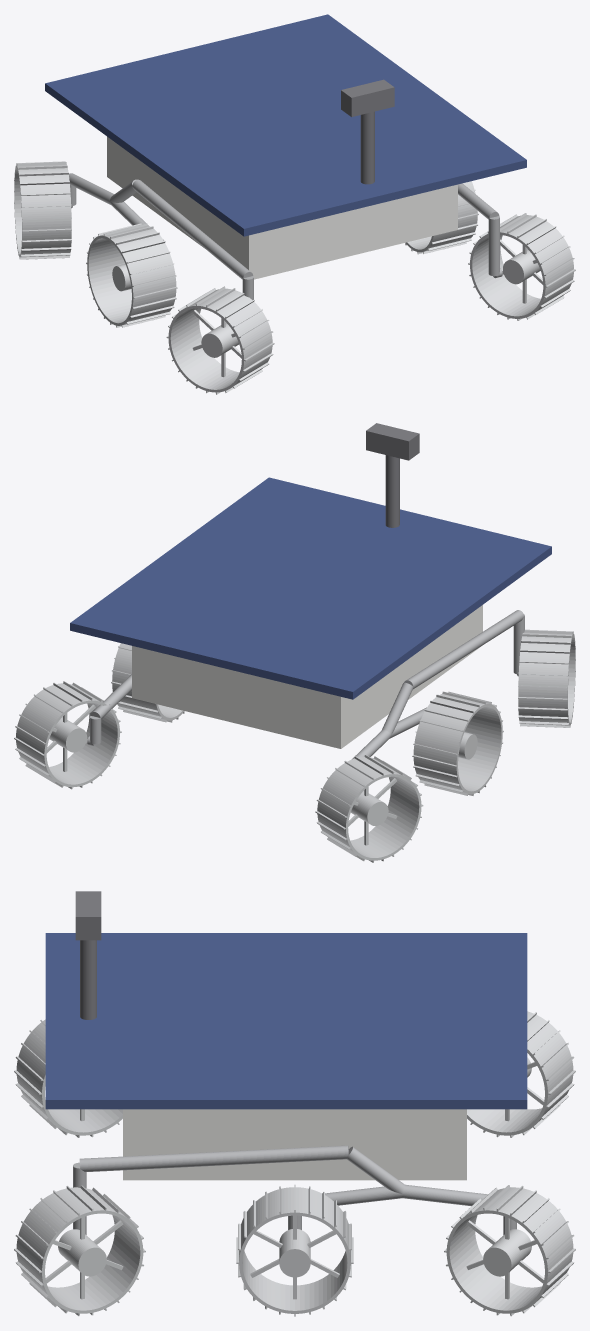
Rendered from rover00_micro_rover_steer_left.glb.
The picture shows the model from 3 angles, top to bottom: view 1: azimuth 30°, elevation 25°; view 2: azimuth 150°, elevation 25°; view 3: azimuth 270°, elevation 25°; orthographic projection. The views are drawn at different scales.
Parts seen in each view (by area): view 1: solar_panel, body_web, wheel_4, wheel_5, wheel_1, wheel_6, rocker_bogie, mast_camera, wheel_2; view 2: solar_panel, body_web, wheel_6, wheel_5, wheel_3, wheel_4, rocker_bogie, mast_camera, wheel_2; view 3: solar_panel, body_web, wheel_1, wheel_3, wheel_2, rocker_bogie, wheel_6, wheel_4, mast_camera.
Part boxes in pixels (x1,y1,x2,y2): solar_panel: (45,14,526,236); body_web: (107,136,457,279); wheel_4: (166,286,274,394); wheel_5: (86,223,177,327); wheel_1: (468,213,575,320); wheel_6: (14,161,71,259); rocker_bogie: (69,173,502,300); mast_camera: (341,79,394,184); wheel_2: (405,181,478,254); solar_panel: (70,477,551,699); body_web: (132,605,482,748); wheel_6: (315,754,423,862); wheel_5: (412,691,503,795); wheel_3: (14,681,121,789); wheel_4: (518,629,575,727); rocker_bogie: (87,610,524,759); mast_camera: (366,423,419,527); wheel_2: (111,643,184,722); solar_panel: (45,933,527,1109); body_web: (123,1109,466,1180); wheel_1: (14,1185,145,1316); wheel_3: (444,1185,575,1316); wheel_2: (236,1184,353,1316); rocker_bogie: (73,1145,516,1234); wheel_6: (467,1011,575,1137); wheel_4: (14,1019,122,1137); mast_camera: (75,891,101,1019).
Size of the model in its own units: 0.6111 by 0.3983 by 0.6533.
